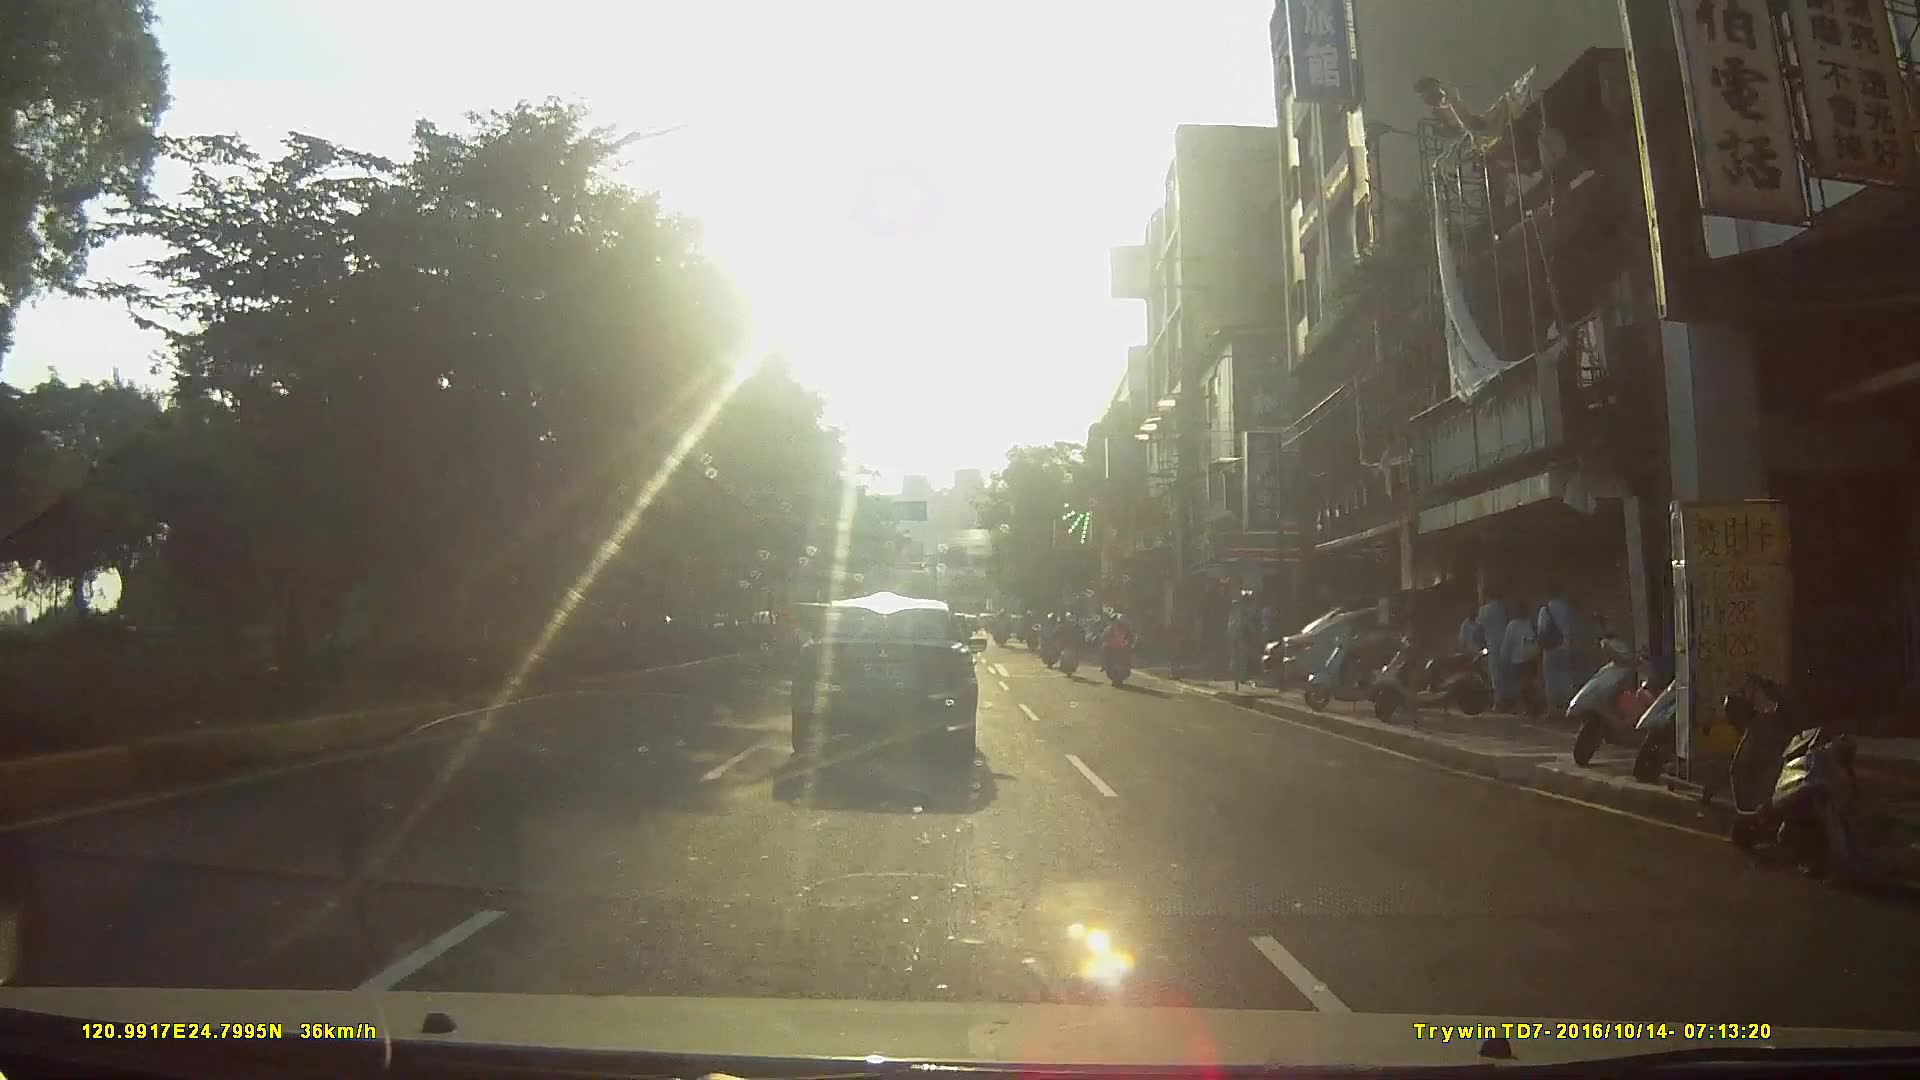pedestrian: (1531, 577, 1579, 724), (1496, 598, 1549, 715), (1474, 579, 1516, 712)
rider: (1103, 614, 1138, 693), (1056, 612, 1085, 679), (1041, 613, 1062, 671)
vehicle: (787, 598, 1002, 786)
